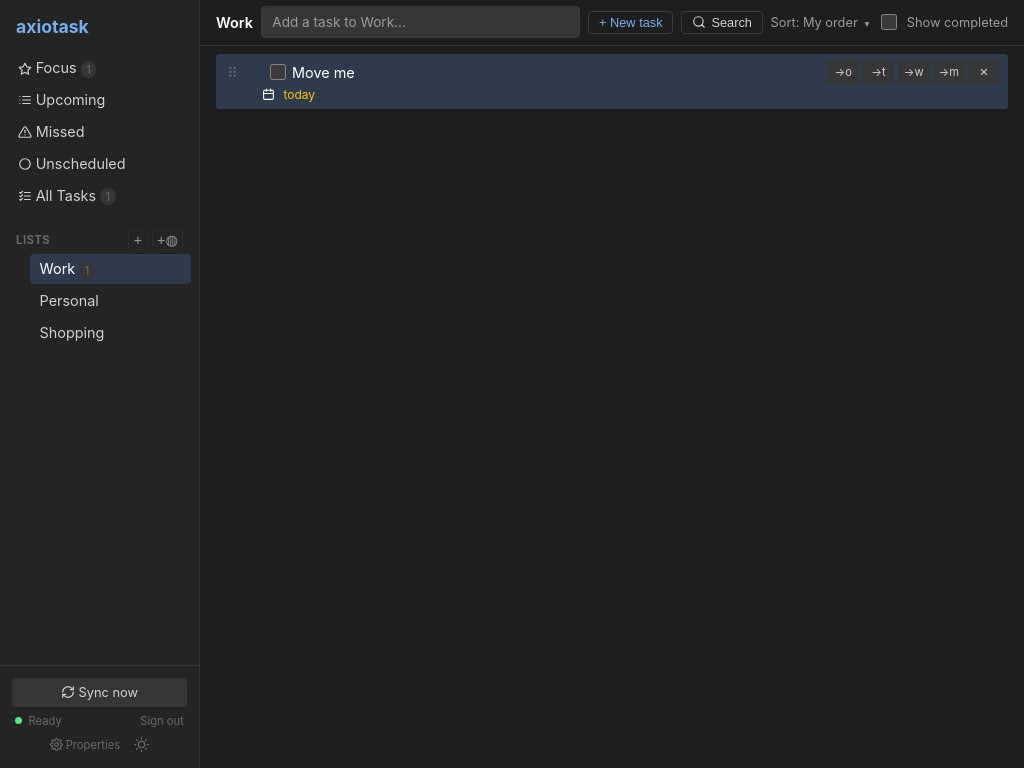
Scenario: GH#16: Move task between lists › Toast confirmation › shows toast after moving task via Ctrl+M
The image size is (1024, 768).
Check: the text "Move me" is shown, box top-left (292, 64), bottom-right (355, 81)
Press m
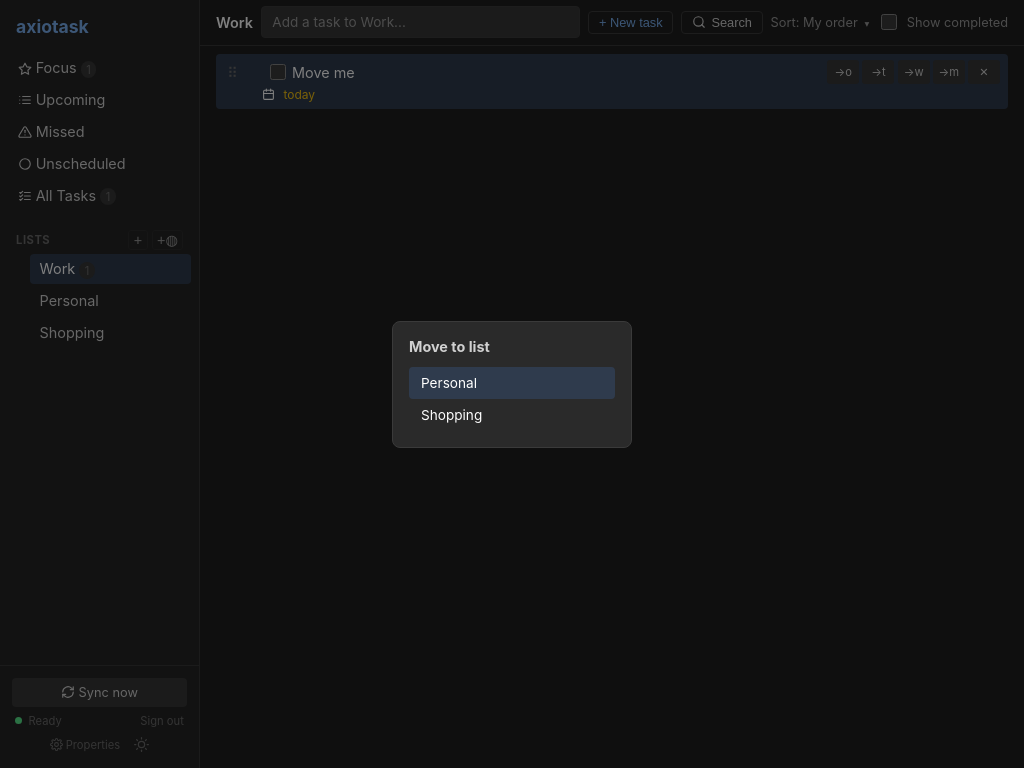
Click the button with class "list-option" showing "Personal" at coordinates (512, 382), box top-left (409, 366), bottom-right (615, 398)
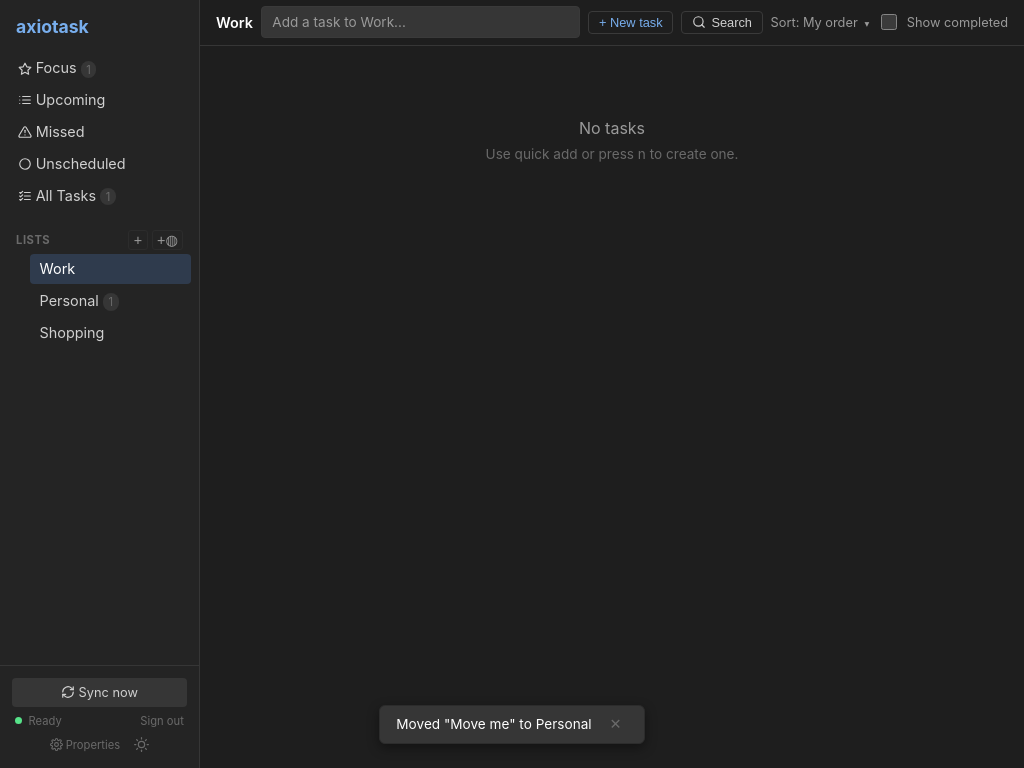
Check: the text "Moved \"Move me\" to Personal" is shown, box top-left (396, 716), bottom-right (592, 732)
